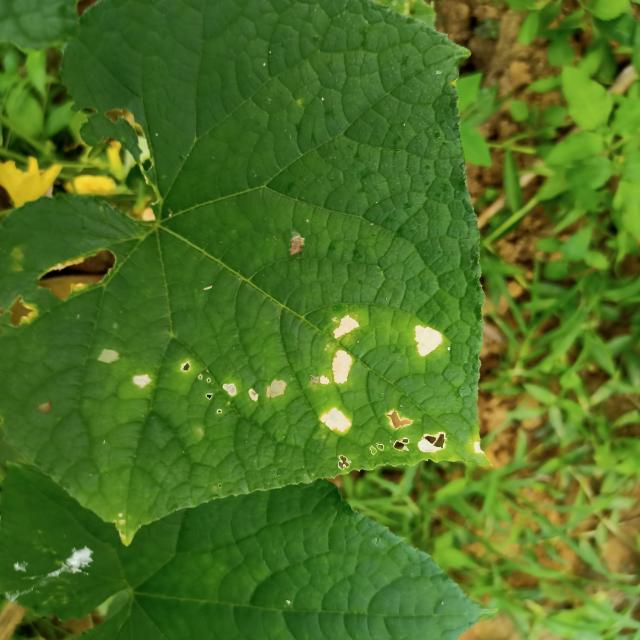disease_cucumber: (263, 294, 478, 468), (72, 325, 260, 442)
